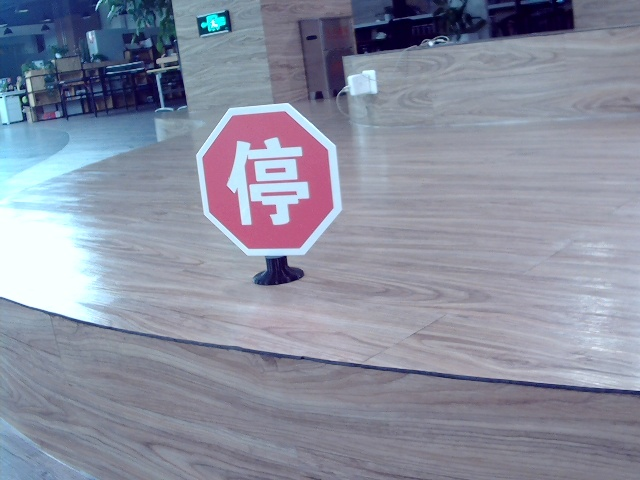stop: (217, 137, 314, 230)
